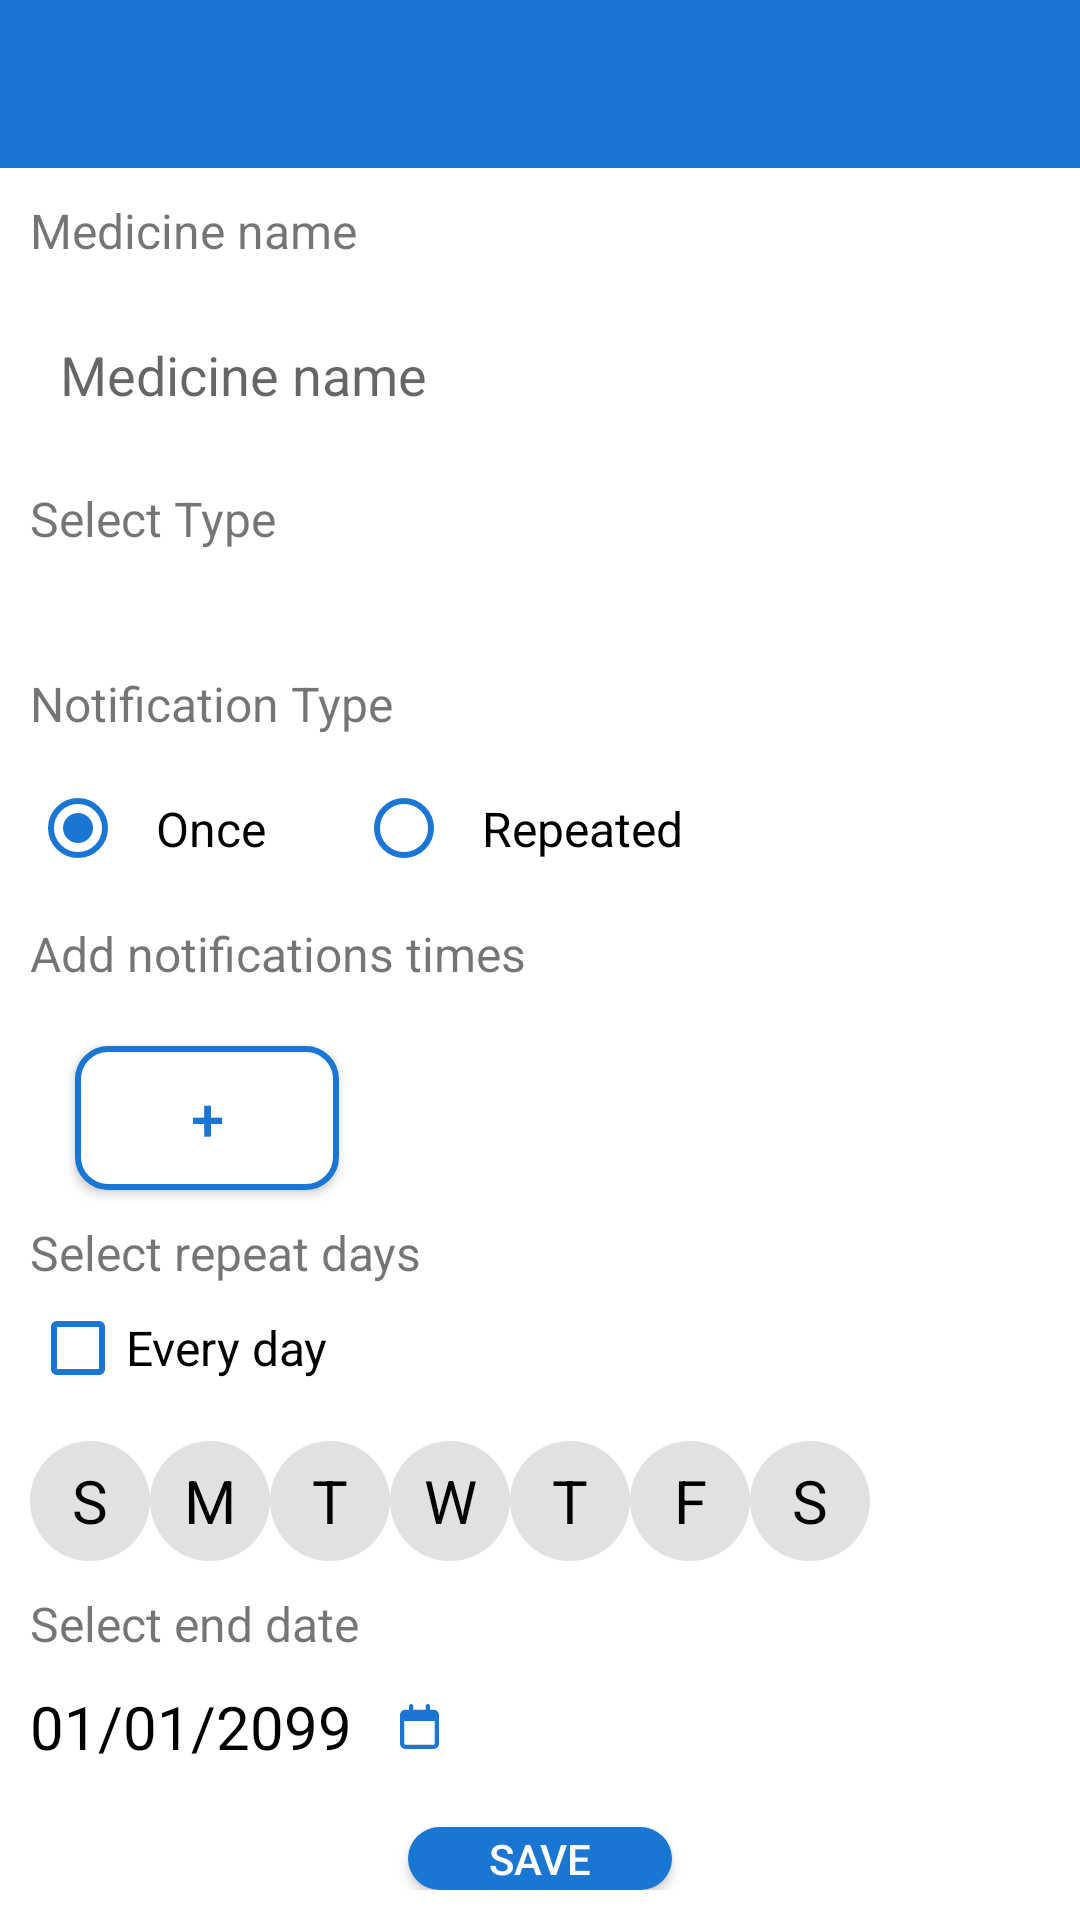

Screen size 1080 x 1920. Icon name, then its box in pixels as (x1=x1, y1=y1, x2=x2, y2=y2):
Calendar icon: (x1=400, y1=1704, x2=439, y2=1749)
